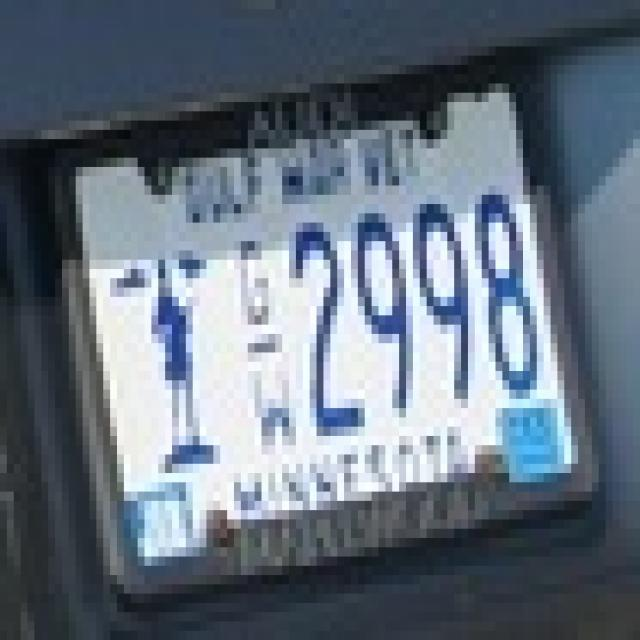licenseplate: (35, 28, 609, 588)
